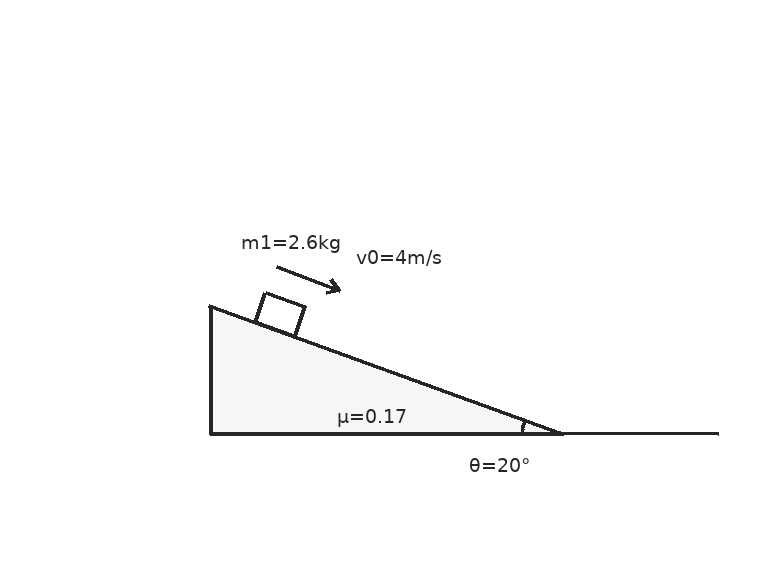block: (253, 290, 307, 337)
ramp: (208, 303, 564, 435)
